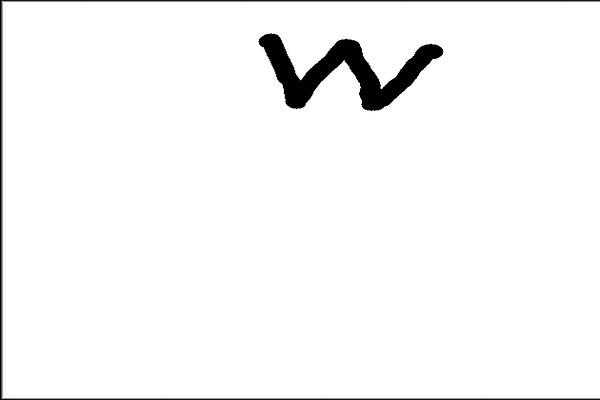w: (241, 13, 461, 132)
